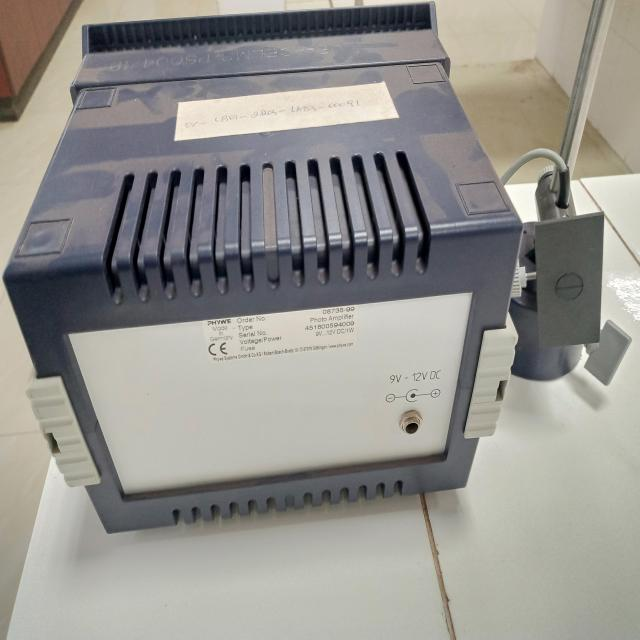Photo Amplifier Power Supply: (0, 5, 592, 552)
